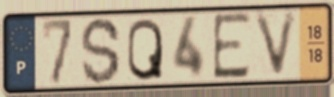4: (170, 12, 208, 84)
7: (40, 16, 75, 89)
E: (211, 10, 254, 83)
Q: (125, 16, 165, 83)
S: (79, 15, 123, 87)
V: (251, 7, 301, 82)
